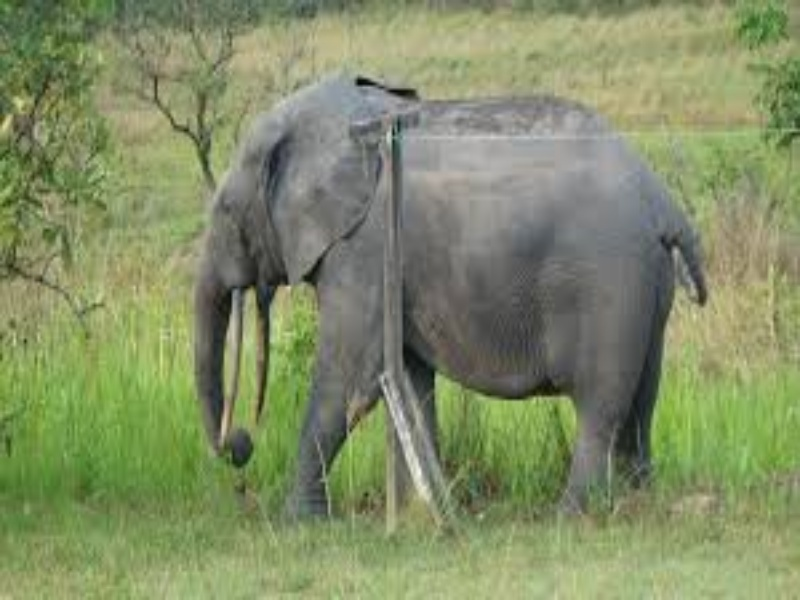elephant: (152, 69, 737, 537)
